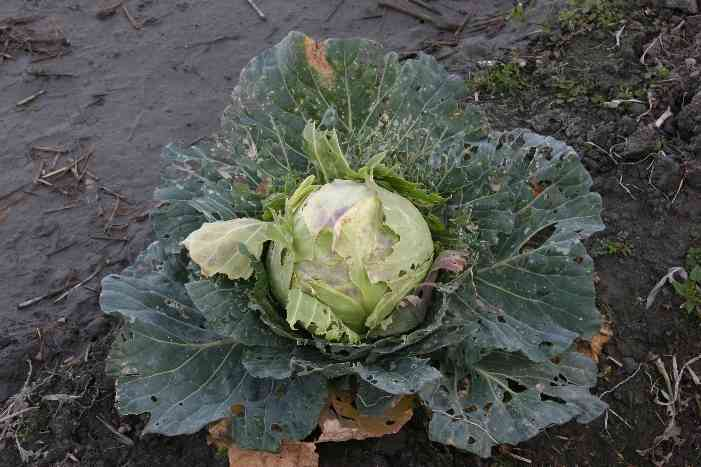cabbage: (258, 163, 436, 337)
